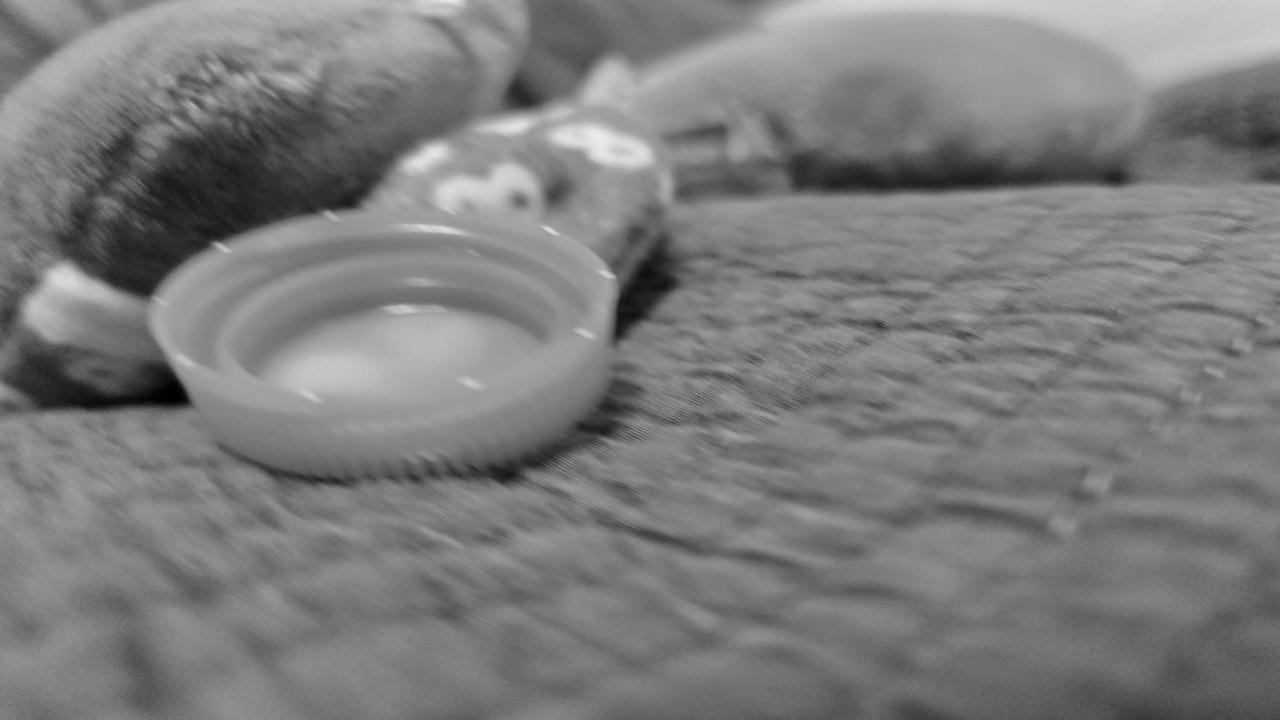bottle_cap: (146, 204, 630, 480)
